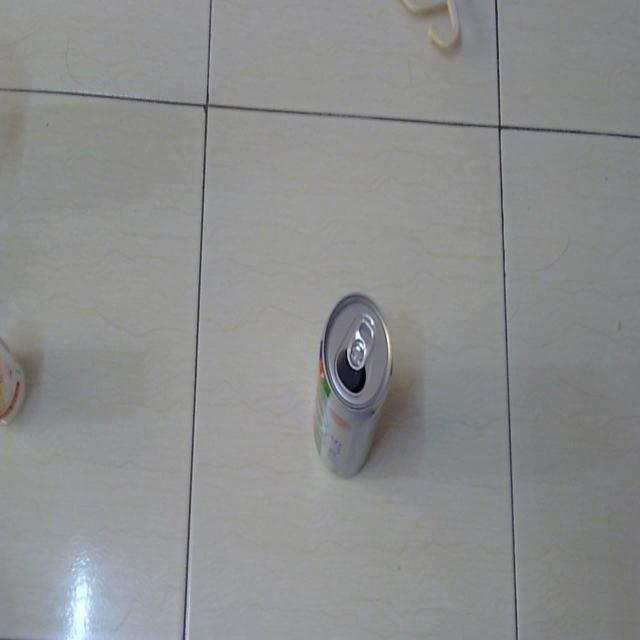metal_standrotation: (313, 284, 397, 483)
